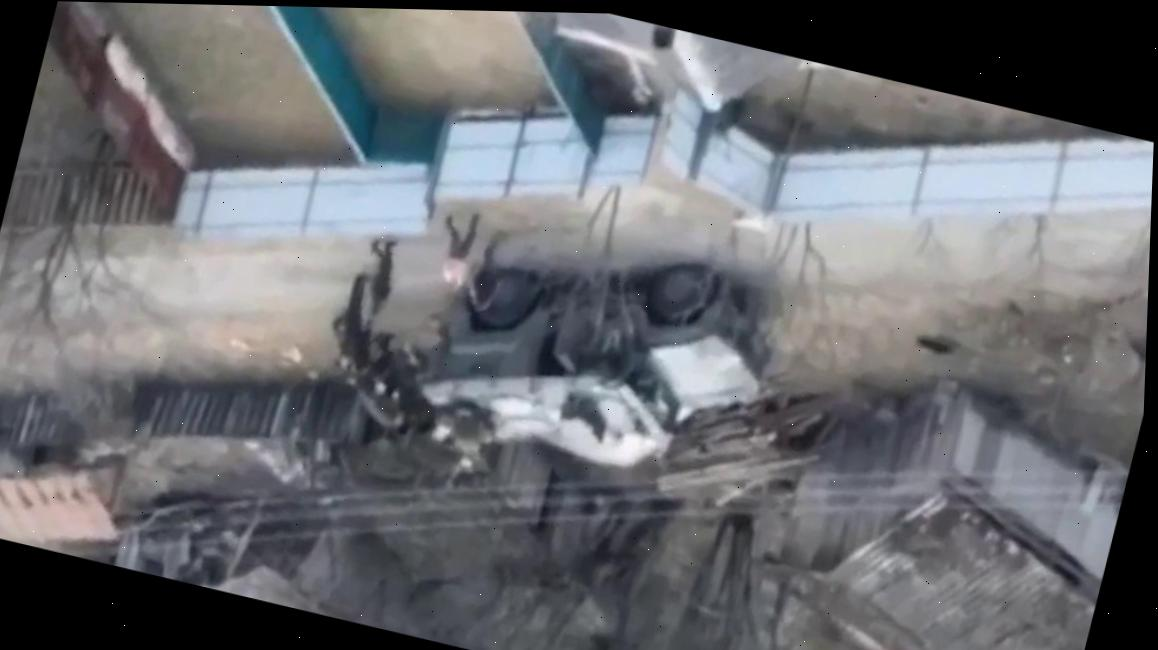armored_car: (397, 211, 791, 515)
person: (320, 268, 377, 372), (429, 206, 482, 291), (461, 227, 511, 316), (353, 236, 403, 319)
